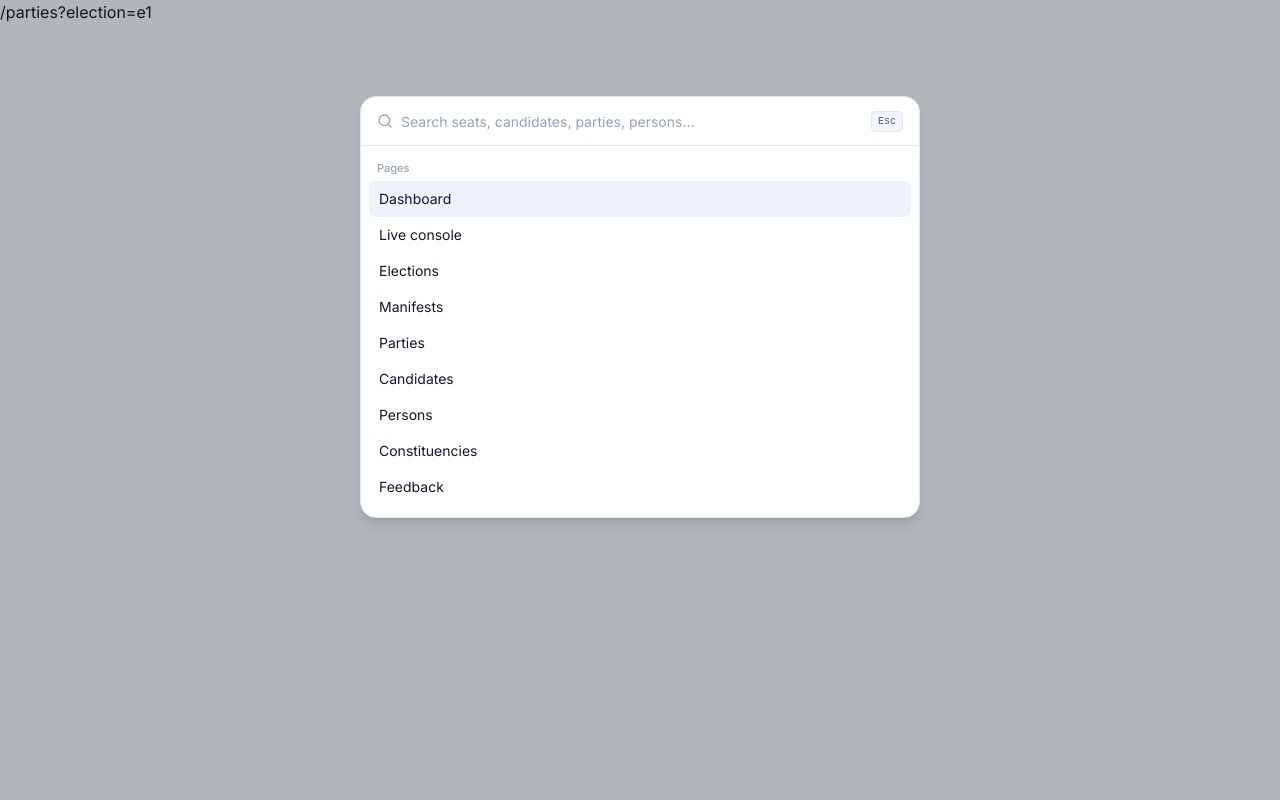
Scenario: CommandPalette — scope and freshness › selected-election candidates missing from the all-elections response still come first, de-duplicated
Type "ra" into the dropdown labelled "Search seats, candidates, parties, persons…" at x=632, y=121, box left=401, top=97, right=863, bottom=145
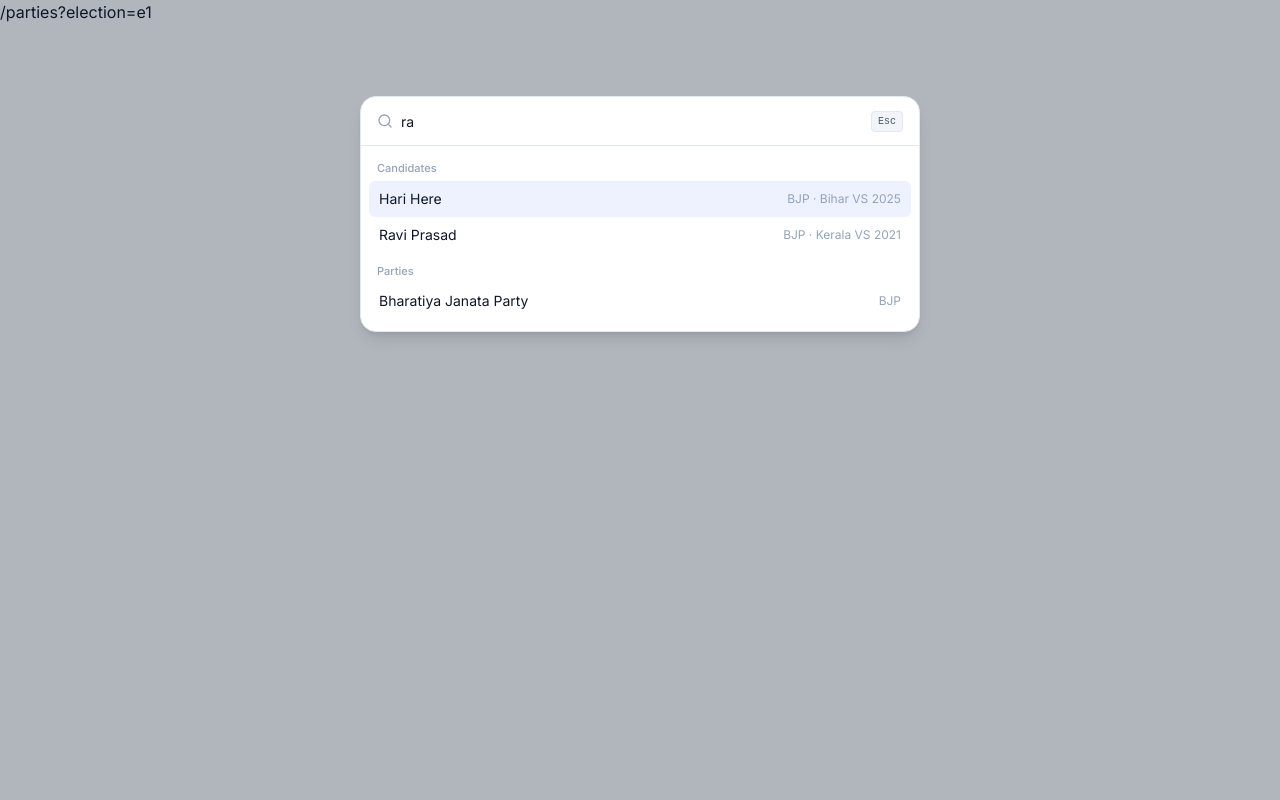
expect the option "Hari Here BJP · Bihar VS 2025" is shown: met, box left=369, top=180, right=911, bottom=216
